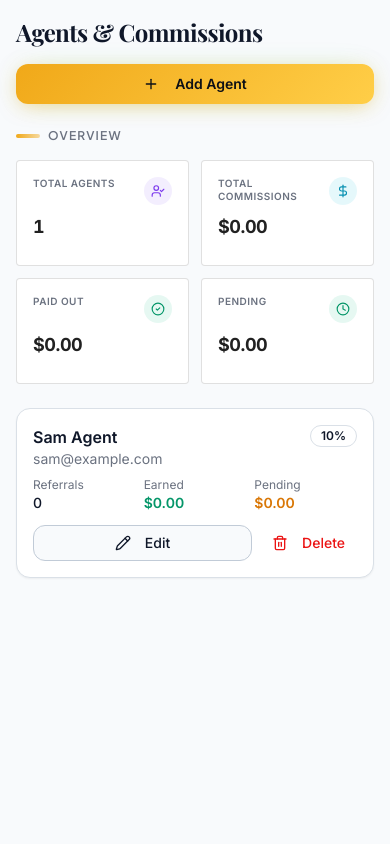
Test case: Agents › edits an existing agent, pre-filling the form
The width and height of the screenshot is (390, 844).
Later steps or results of the test are not shown.
Click the button "Edit" at (143, 543), box [33,525,252,561]
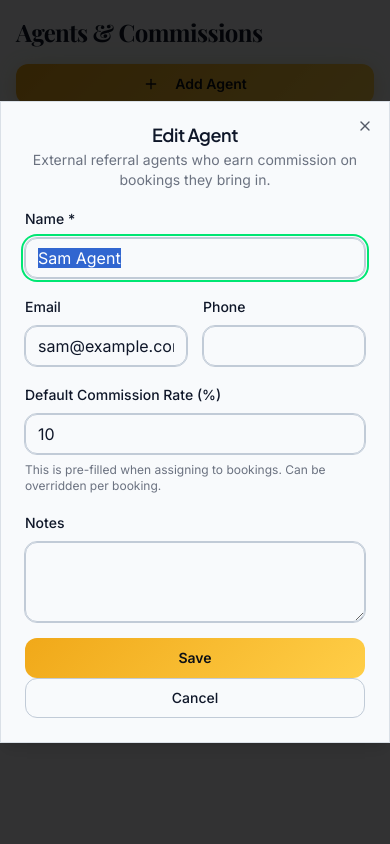
Expected: the field labelled "Name *" holds "Sam Agent", [25,238,365,278]
